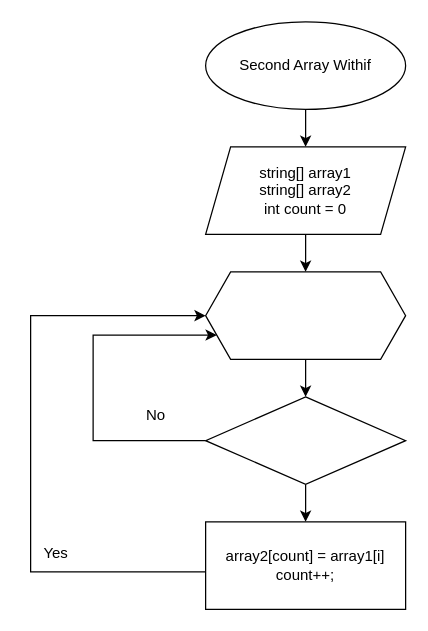
Image size: 428x631. Some labels were removed from this diagram. The centre of each missing label's shape, as x and y in pixels:
"for (int i = 0; i < array1.length; i++)" goes at point 305,315.
"if (array1[i].lenght <= 3)" goes at point 305,440.
